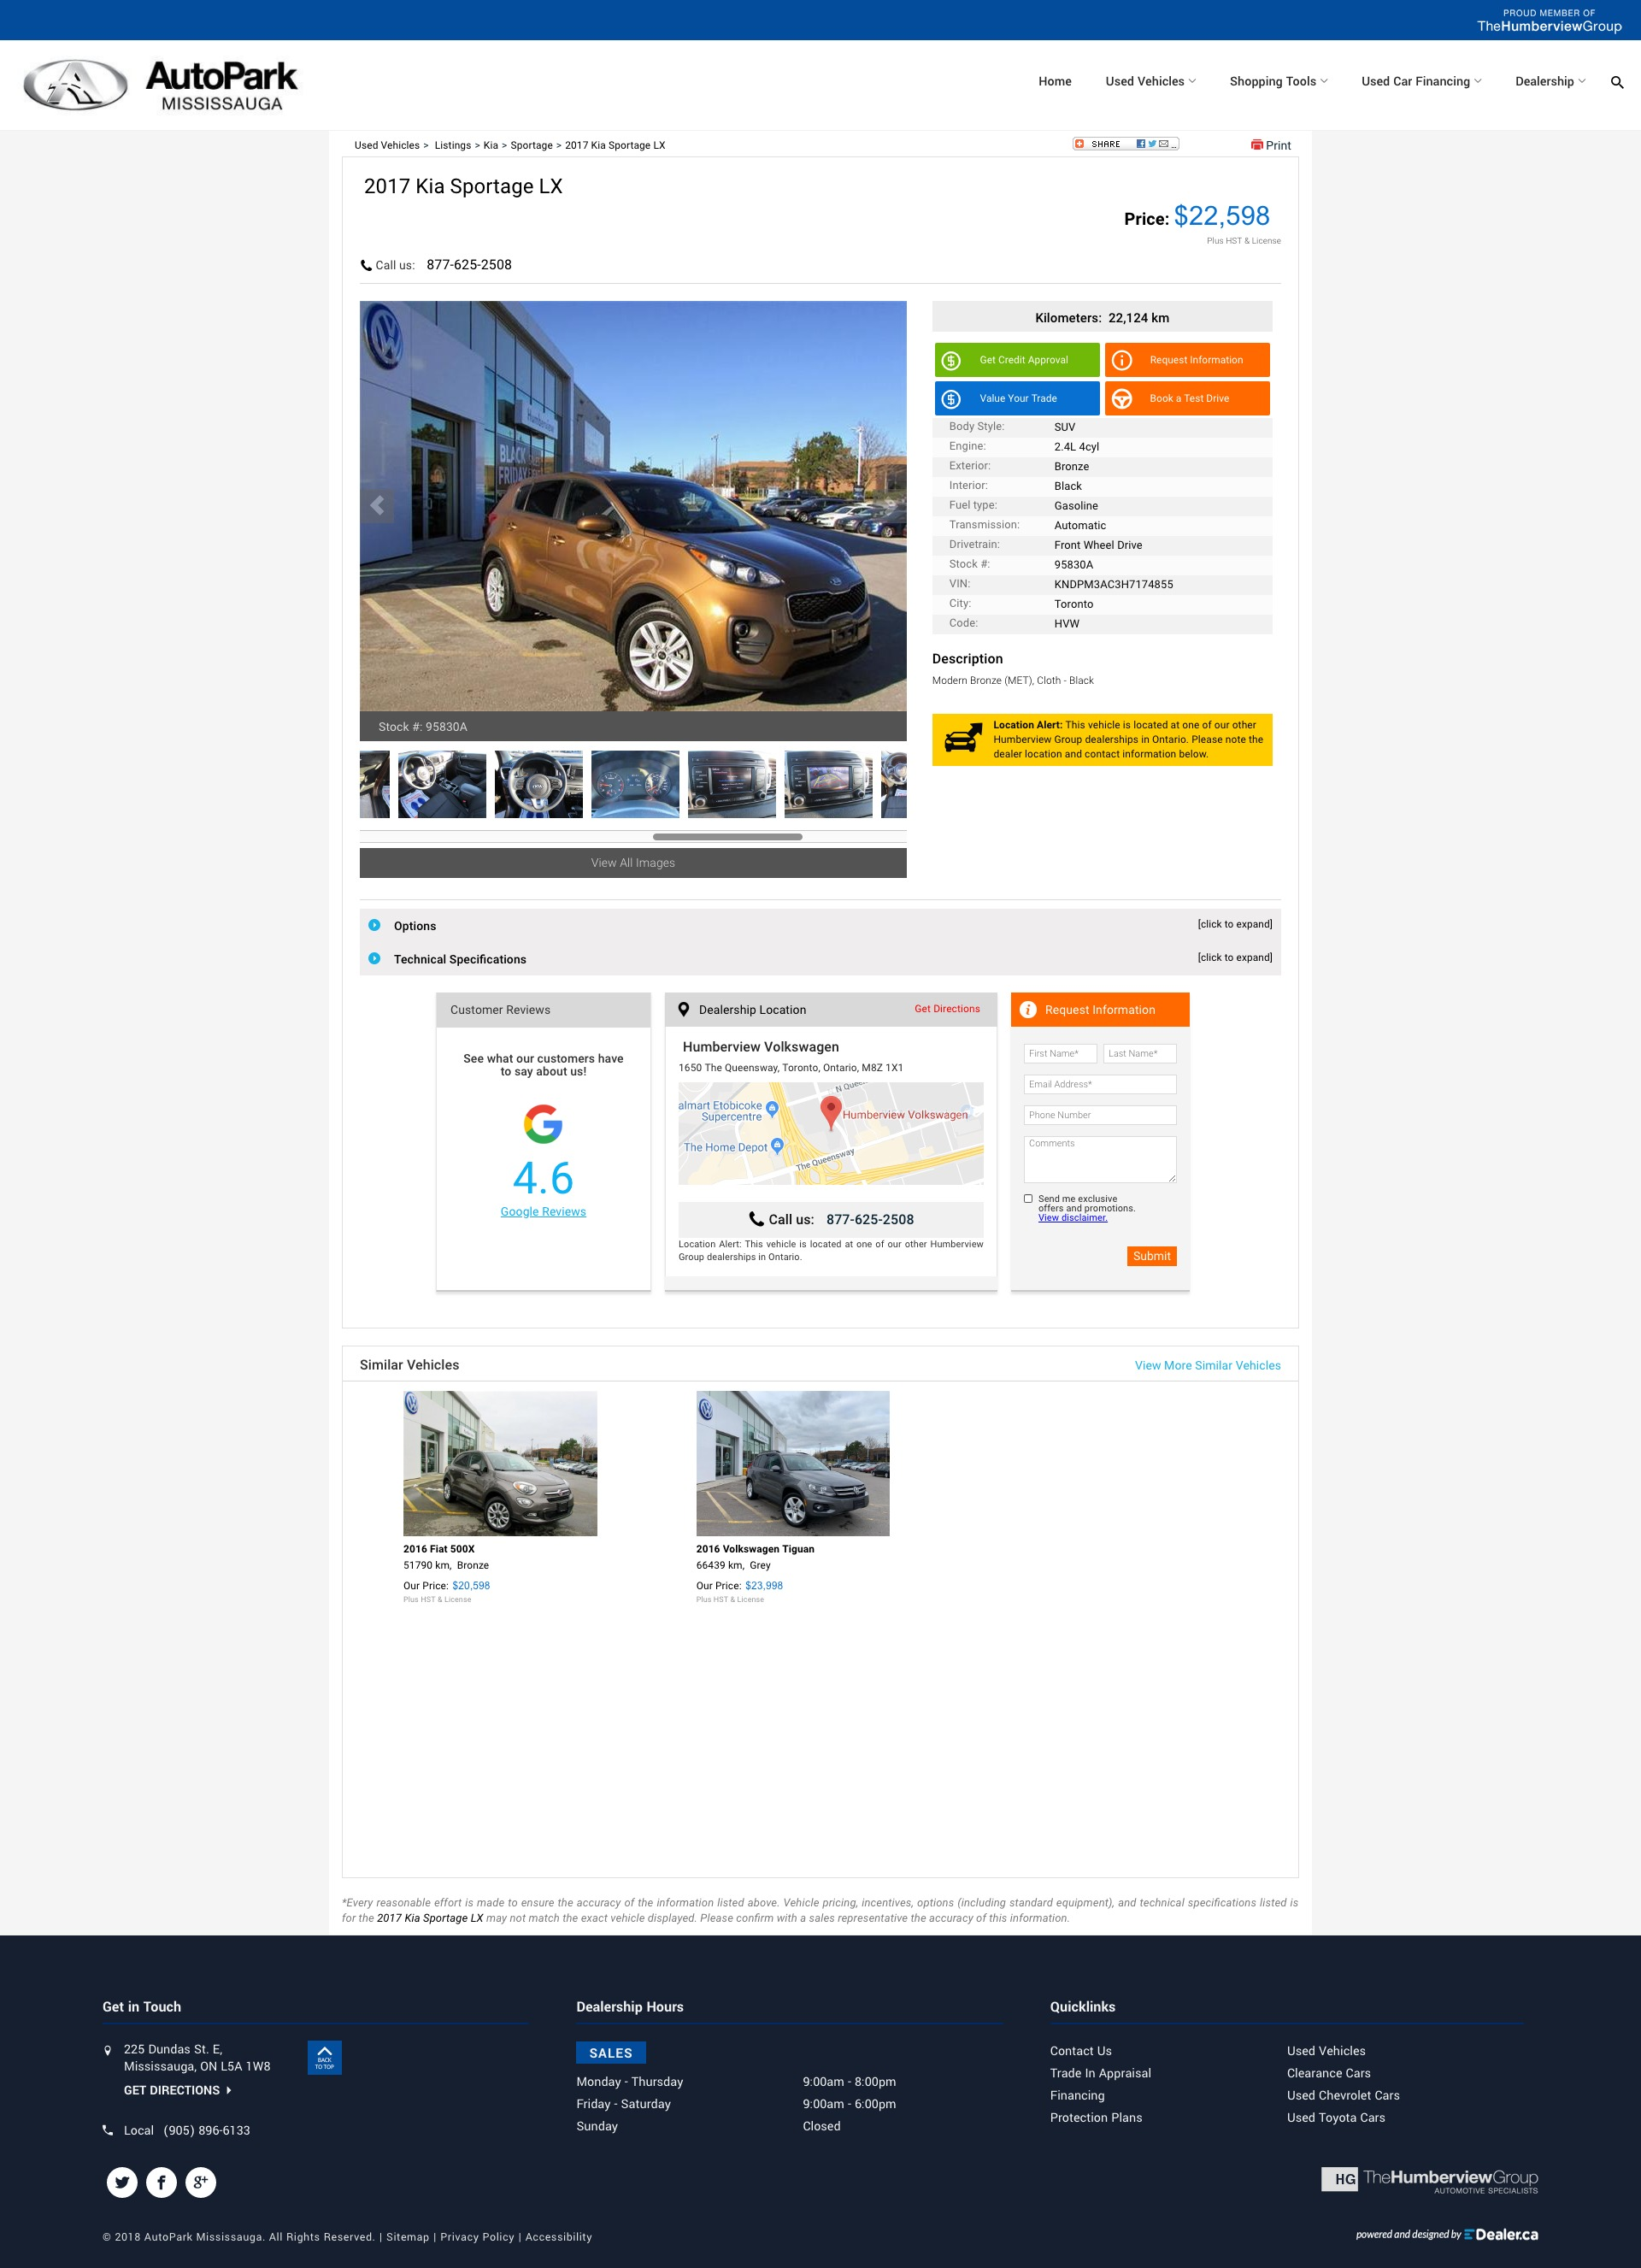car: (872, 488, 909, 526)
